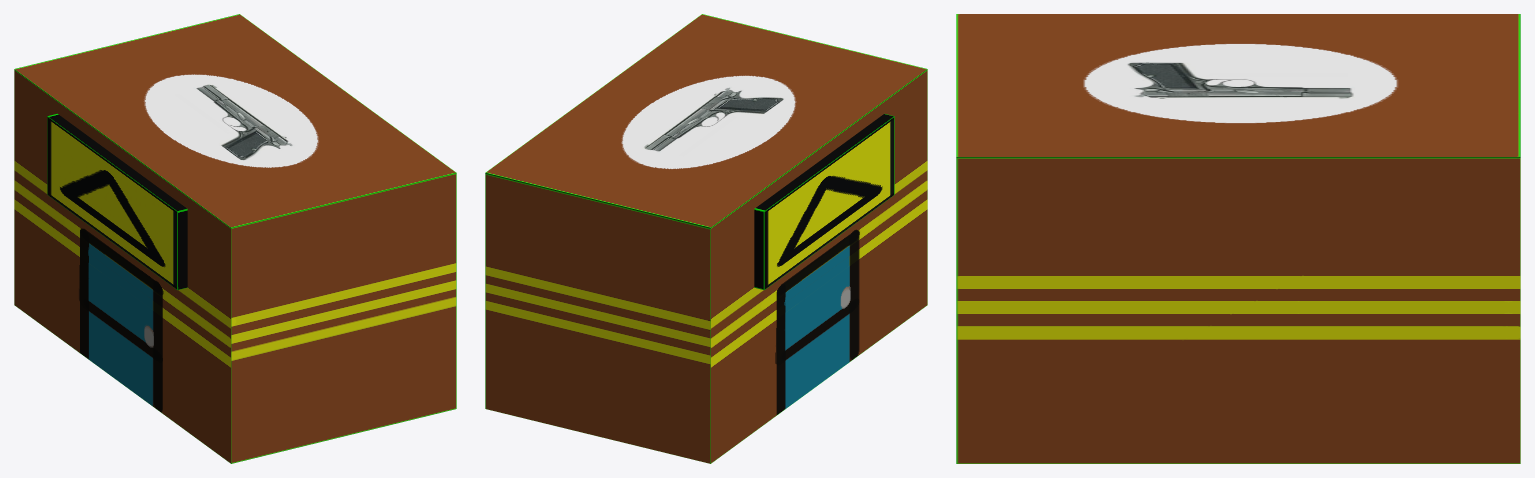
The model's file is Gun Shop.FBX.
3 views of the same model, side by side, from view 1: azimuth 30°, elevation 25°; view 2: azimuth 150°, elevation 25°; view 3: azimuth 270°, elevation 25° (orthographic). The views are drawn at different scales.
Parts seen in each view (by area): view 1: Box002; view 2: Box002; view 3: Box002.
Part boxes in pixels (x1,y1,x2,y2): Box002: [14, 14, 456, 463]; Box002: [485, 14, 927, 463]; Box002: [956, 14, 1520, 463].
Size of the model in its own units: 15.68 by 15 by 25.
